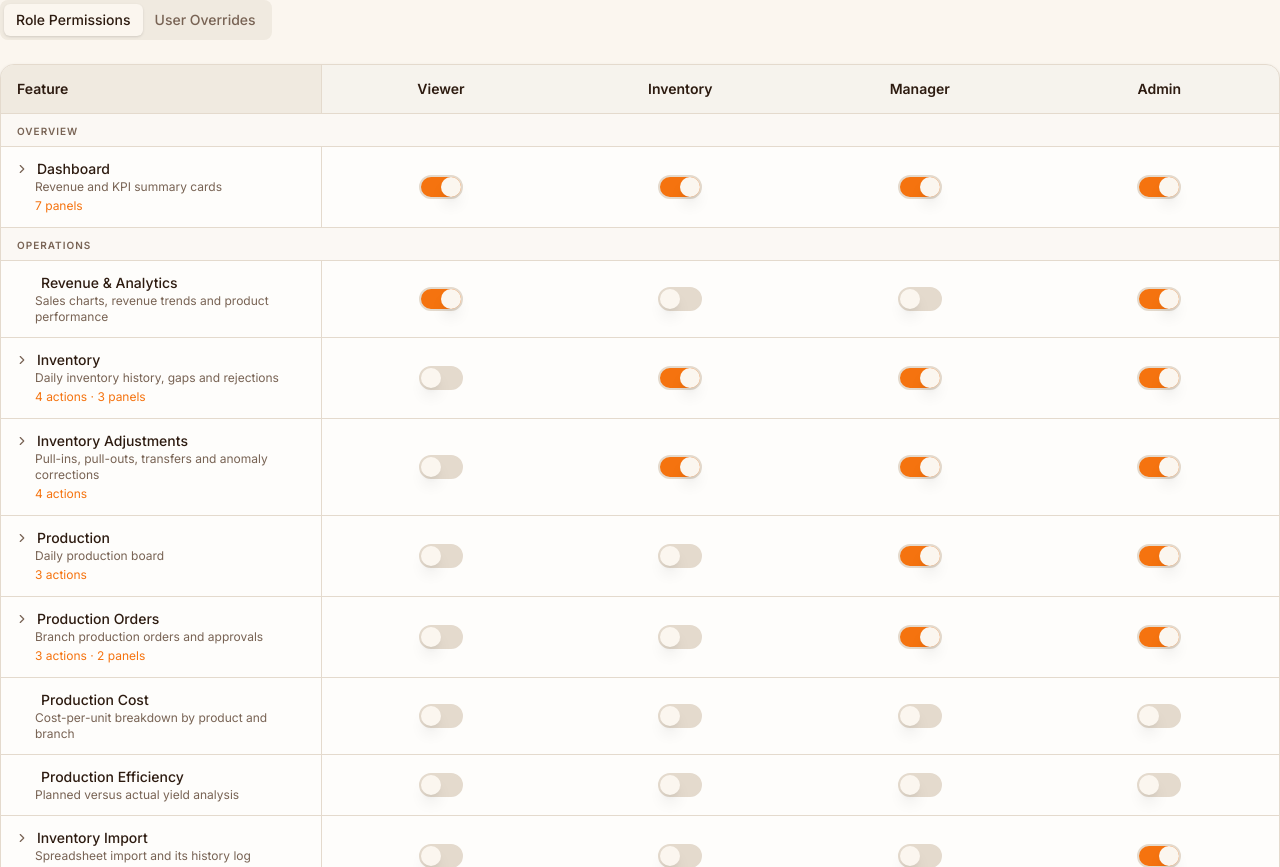
Test case: Permissions screen — user overrides › locks the protected rows for an admin account
Click the tab "User Overrides" at (205, 20), box 142,4 -> 268,36
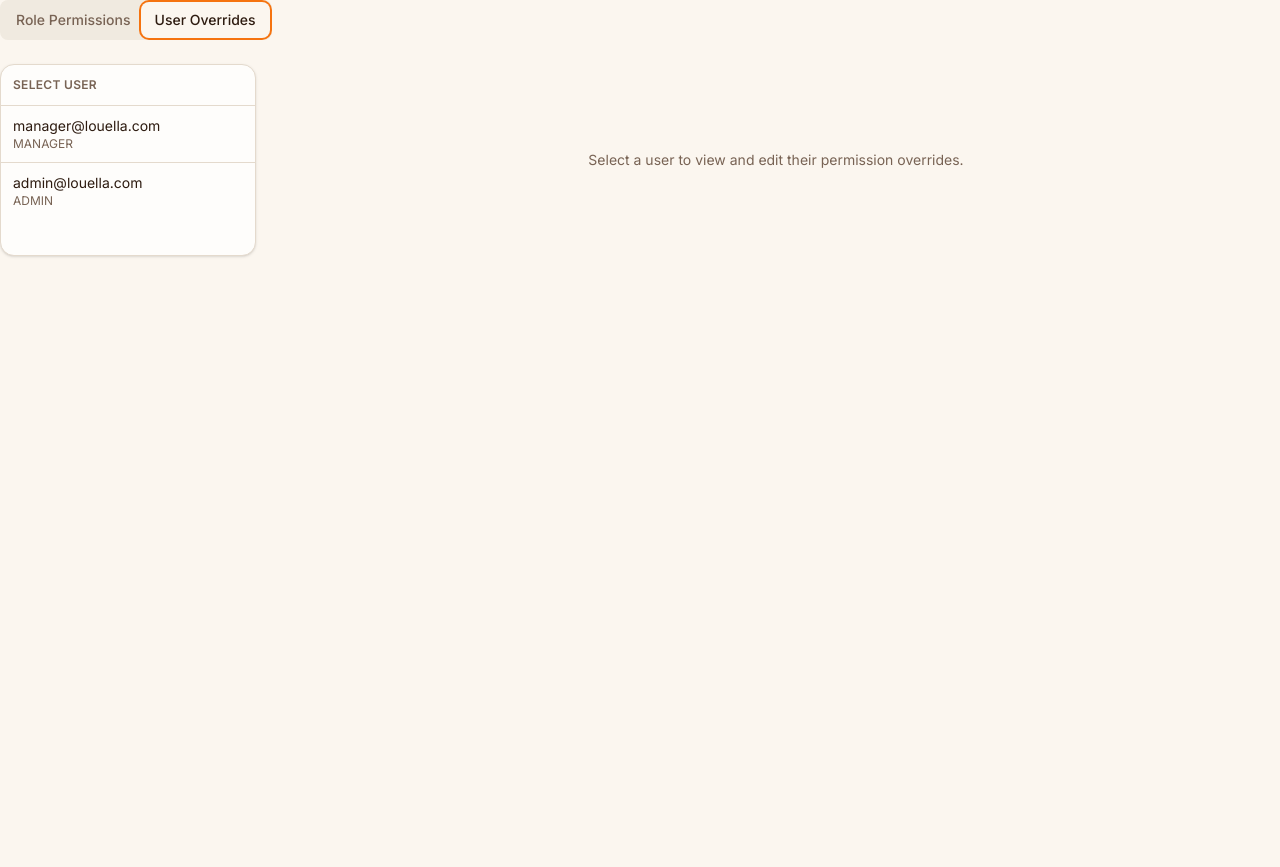
Expected: the text "Select User" is shown, 13,77 -> 97,92
Click the text "admin@louella.com" at (78, 182), box 13,174 -> 142,191
(page scrolled)
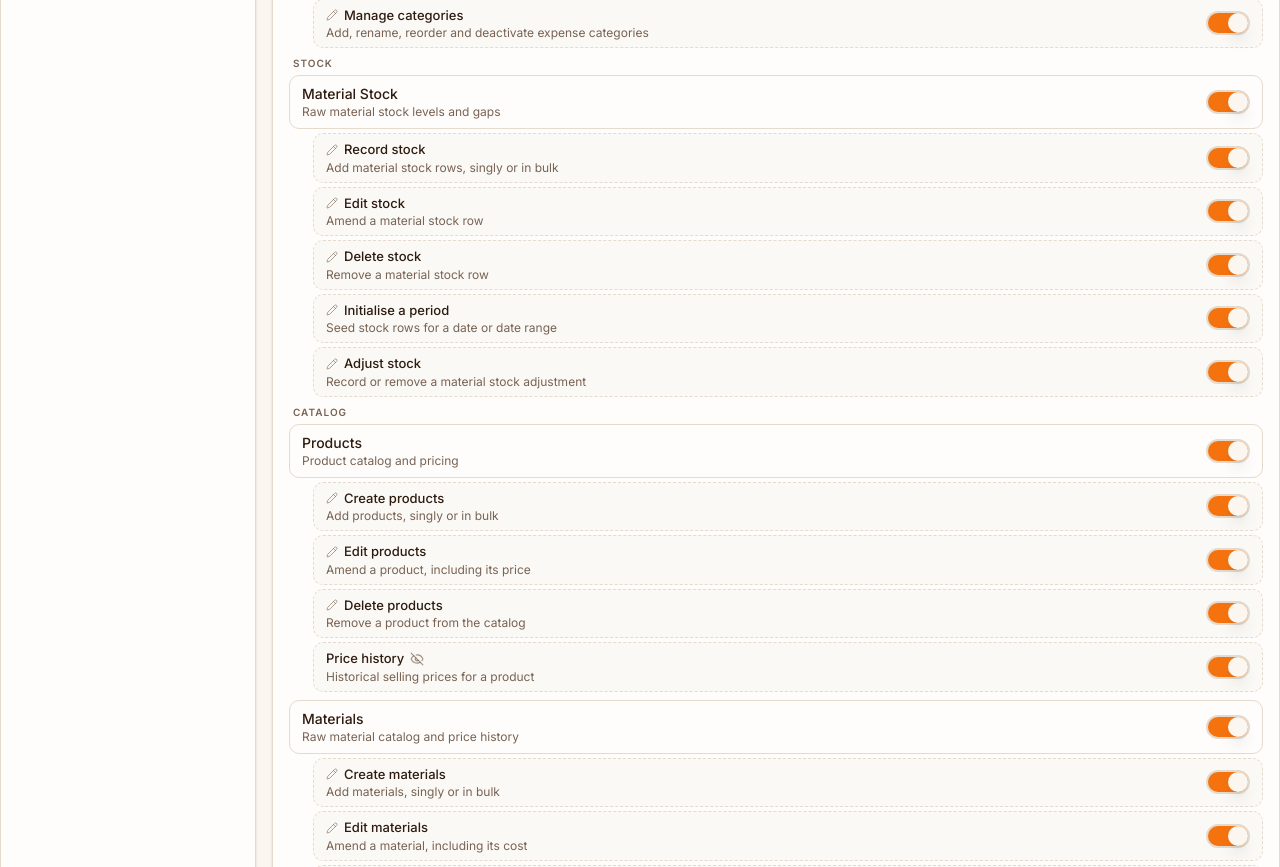
Expected: the switch named "Products" is enabled, 1206,438 -> 1250,462
